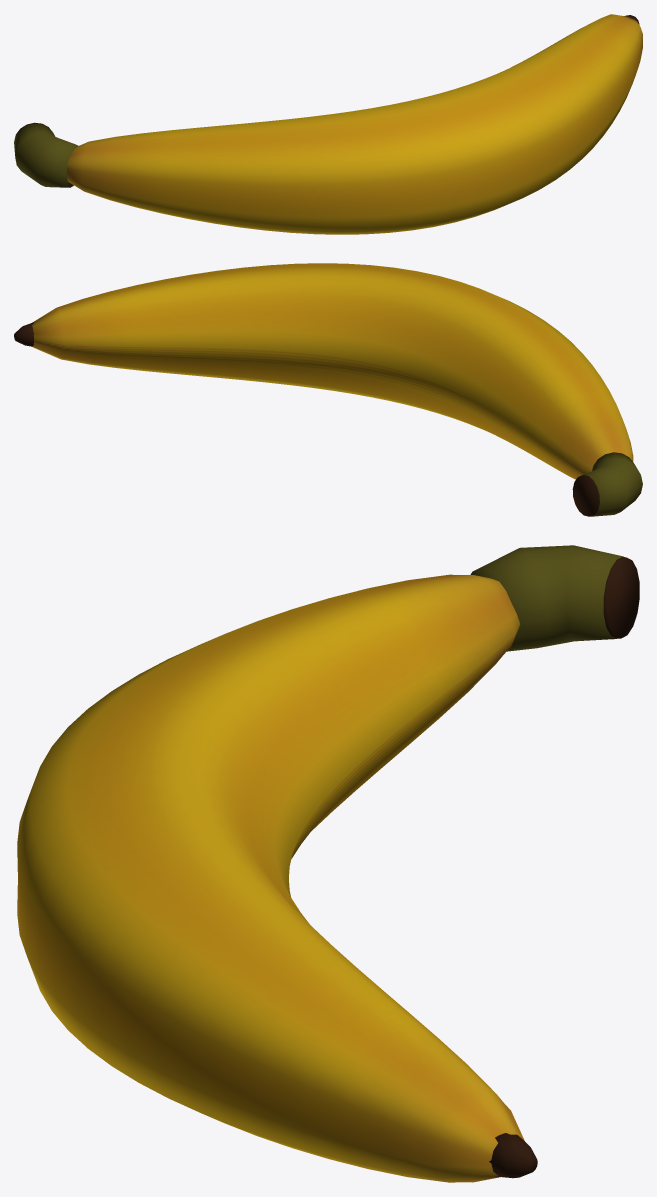
File: banana.glb
3 views of the same model, one above another, from view 1: azimuth 30°, elevation 25°; view 2: azimuth 150°, elevation 25°; view 3: azimuth 270°, elevation 25° (orthographic). The views are drawn at different scales.
Parts seen in each view (by area): view 1: banana.001; view 2: banana.001; view 3: banana.001.
Boxes of the visible parts, x1,y1,x2,y2 form: banana.001: [14, 14, 642, 234]; banana.001: [14, 263, 642, 516]; banana.001: [17, 545, 639, 1182].
Size of the model in its own units: 1 by 0.1783 by 0.4442.
Materials: 1 (1 with a texture image).
